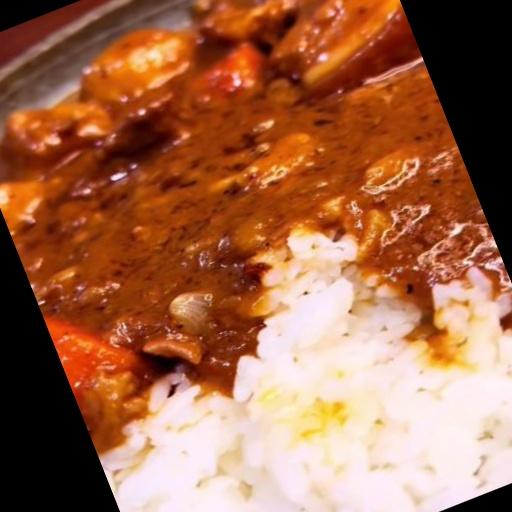pork caldereta: (0, 0, 502, 435)
